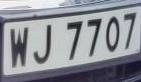0: (104, 12, 123, 58)
7: (63, 14, 86, 67), (84, 14, 103, 59), (121, 10, 140, 54)
J: (30, 20, 58, 69)
W: (7, 22, 32, 75)
